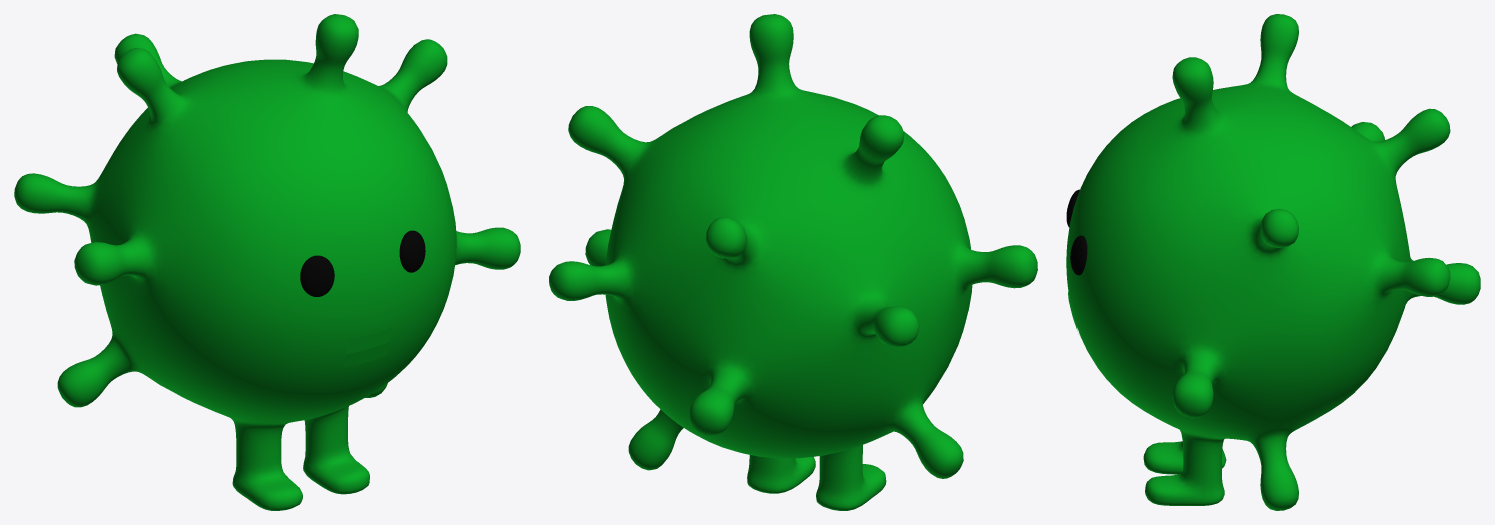
The model's file is Covid-19_mouthedit.FBX.
3 views of the same model, side by side, from view 1: azimuth 30°, elevation 25°; view 2: azimuth 150°, elevation 25°; view 3: azimuth 270°, elevation 25° (orthographic). The views are drawn at different scales.
Visible parts, largest first — view 1: pSphere7, Mouth001; view 2: pSphere7; view 3: pSphere7.
Boxes of the visible parts, box(x1,y1,x2,y2) form: pSphere7: box(14, 14, 520, 510); Mouth001: box(343, 327, 391, 367); pSphere7: box(549, 14, 1037, 510); pSphere7: box(1066, 14, 1480, 510).
Size of the model in its own units: 5.93 by 5.94 by 5.05.
